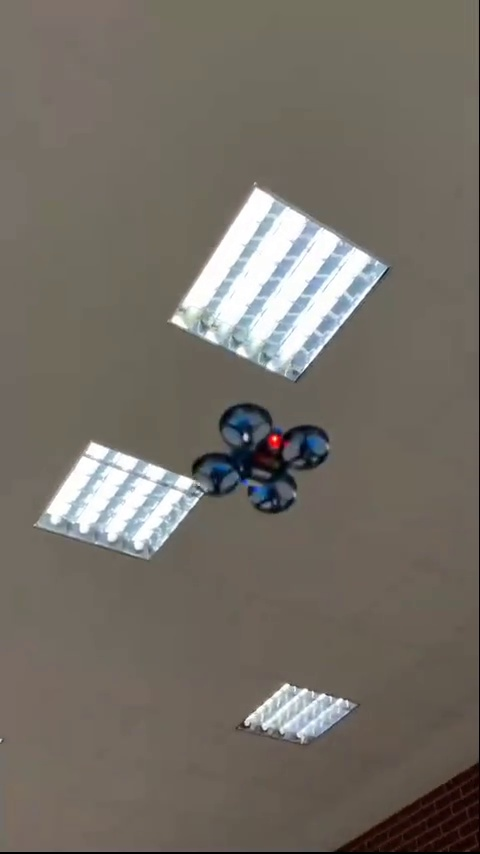drone: (193, 408, 329, 520)
